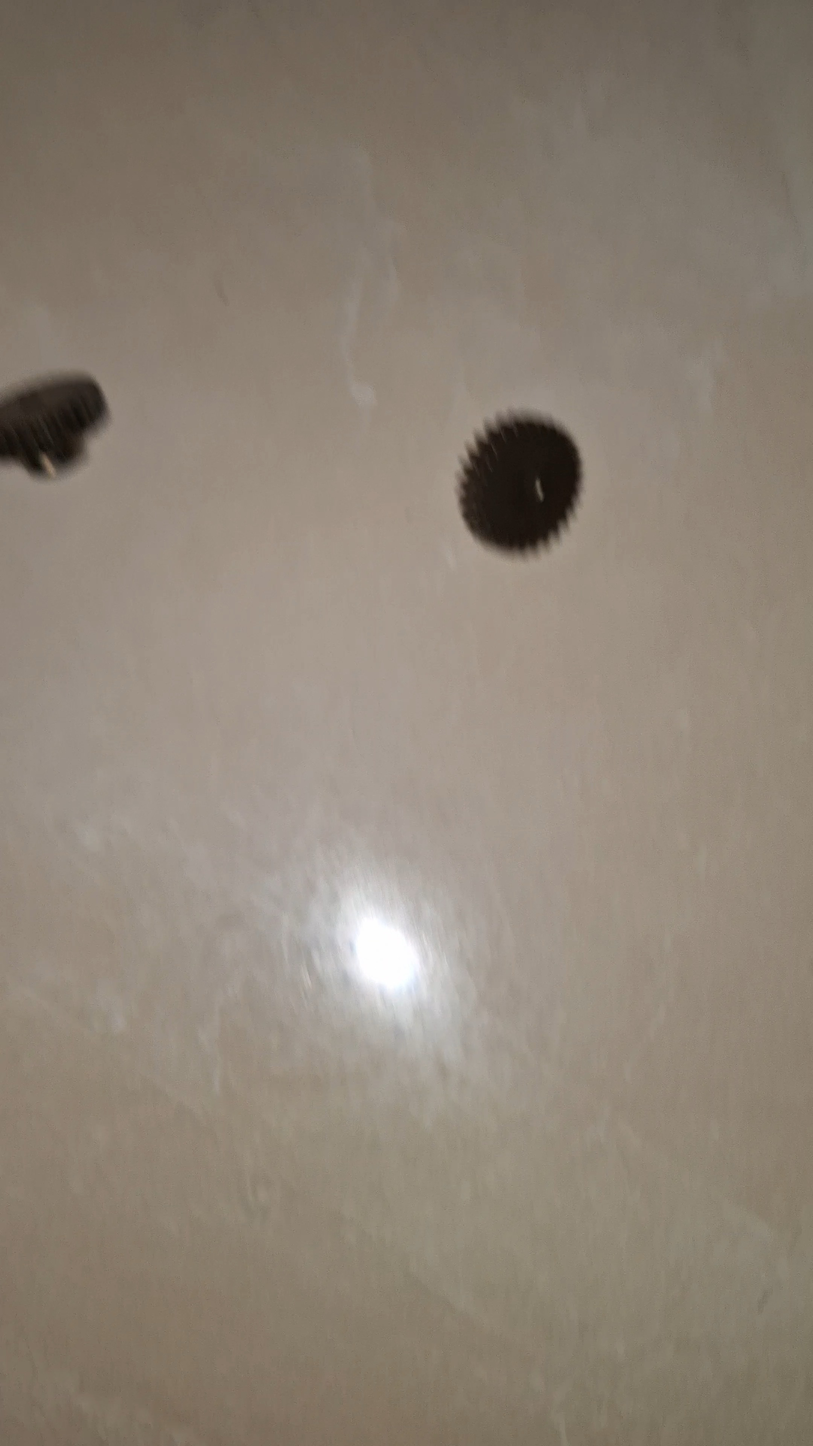spur gear: (458, 414, 581, 551), (0, 375, 107, 477)
